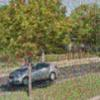cars: (32, 62, 57, 82), (8, 63, 29, 86)
